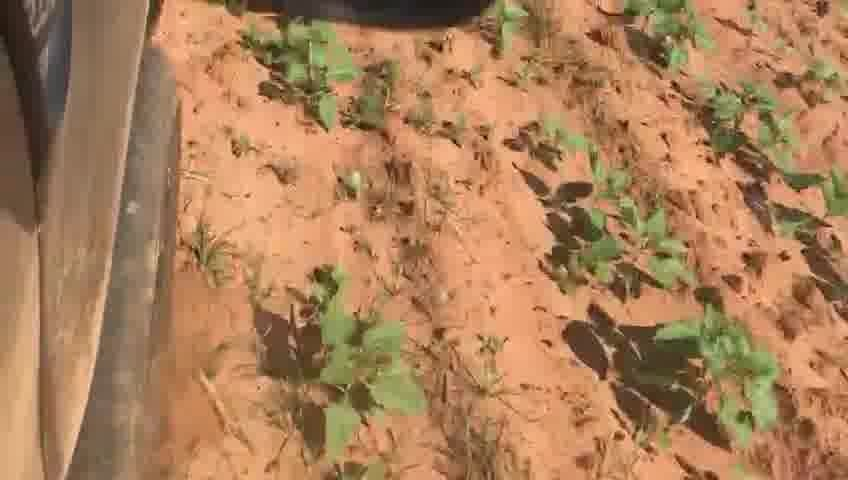sunflower: (626, 313, 779, 453), (313, 313, 427, 465), (569, 165, 690, 293), (256, 25, 367, 133), (754, 127, 838, 224), (621, 4, 716, 79), (700, 83, 778, 160), (480, 5, 536, 59), (539, 121, 590, 171)
